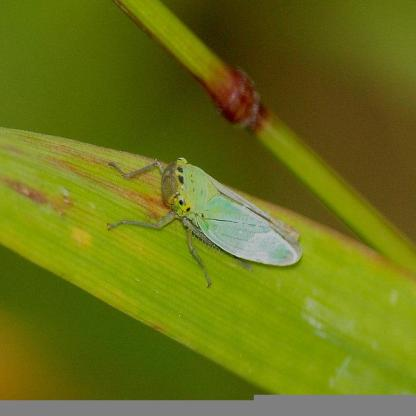Green-Leafhopper: (102, 151, 307, 290)
